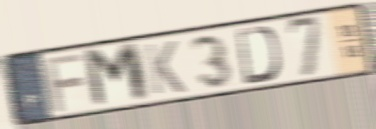3: (190, 32, 235, 90)
7: (284, 14, 323, 81)
D: (234, 24, 283, 87)
F: (42, 51, 89, 114)
K: (141, 39, 188, 97)
M: (80, 40, 153, 111)
